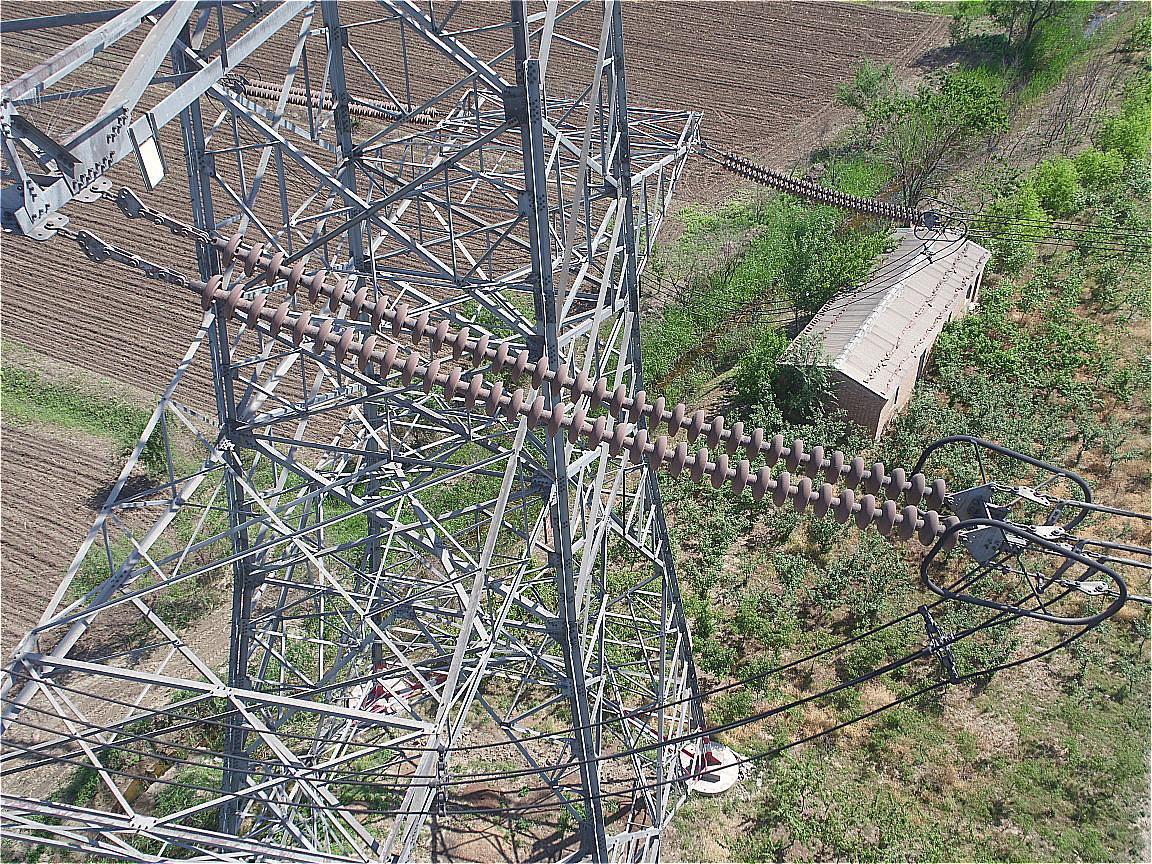insultor1: (182, 221, 960, 545), (709, 141, 940, 225)
